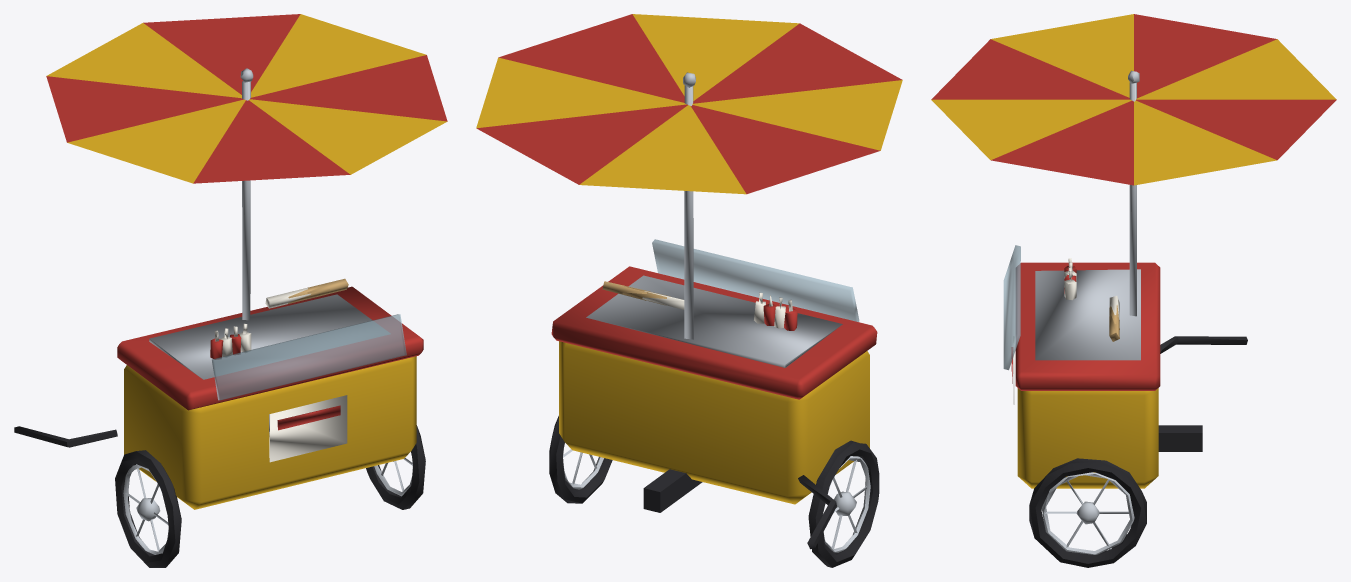
File: hotdog_cart.glb
The picture shows the model from 3 angles, left to right: view 1: azimuth 30°, elevation 25°; view 2: azimuth 150°, elevation 25°; view 3: azimuth 270°, elevation 25°; orthographic projection. The views are drawn at different scales.
Parts seen in each view (by area): view 1: hotdog_cart; view 2: hotdog_cart; view 3: hotdog_cart.
Part boxes in pixels (x1,y1,x2,y2): hotdog_cart: [14, 14, 447, 567]; hotdog_cart: [476, 14, 902, 567]; hotdog_cart: [931, 14, 1336, 567].
Size of the model in its own units: 2.3 by 2.73 by 2.3.
